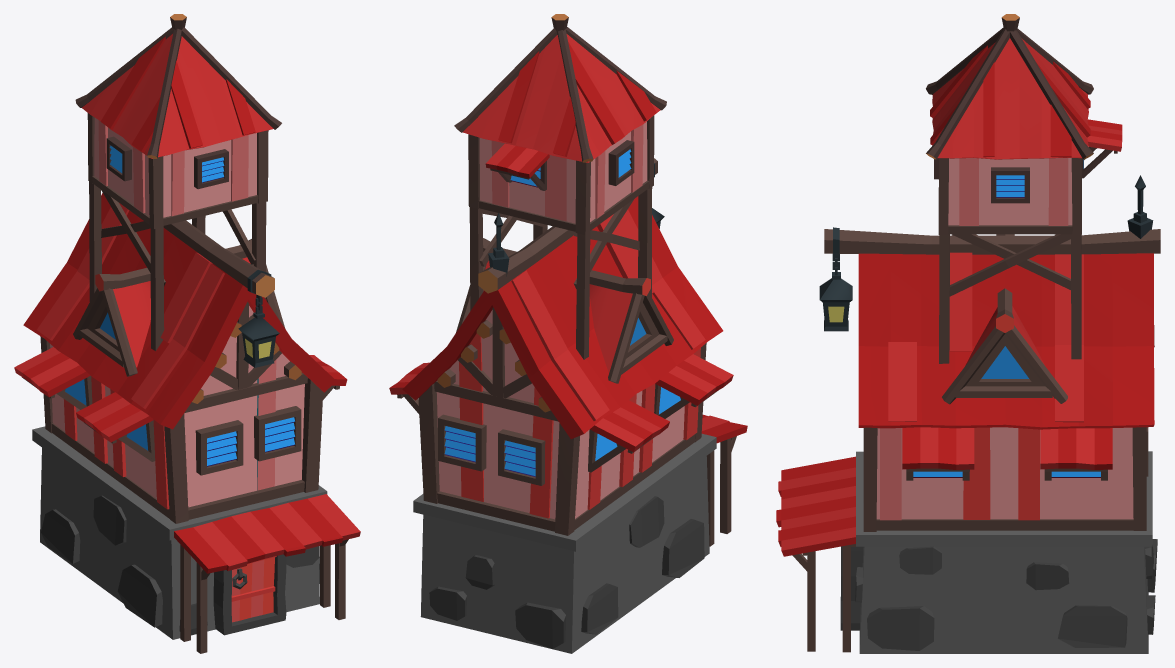
File: House_2-5.fbx
3 renders of one model, left to right at view 1: azimuth 30°, elevation 25°; view 2: azimuth 150°, elevation 25°; view 3: azimuth 270°, elevation 25°, orthographic. The views are drawn at different scales.
Parts seen in each view (by area): view 1: Village_BG_Bd_House04_A.003; view 2: Village_BG_Bd_House04_A.003; view 3: Village_BG_Bd_House04_A.003.
Part boxes in pixels (x1,y1,x2,y2): Village_BG_Bd_House04_A.003: (14, 14, 360, 653); Village_BG_Bd_House04_A.003: (389, 14, 747, 653); Village_BG_Bd_House04_A.003: (776, 14, 1160, 653).
Bounding box in the file's own units: 552 × 1225 × 713.
